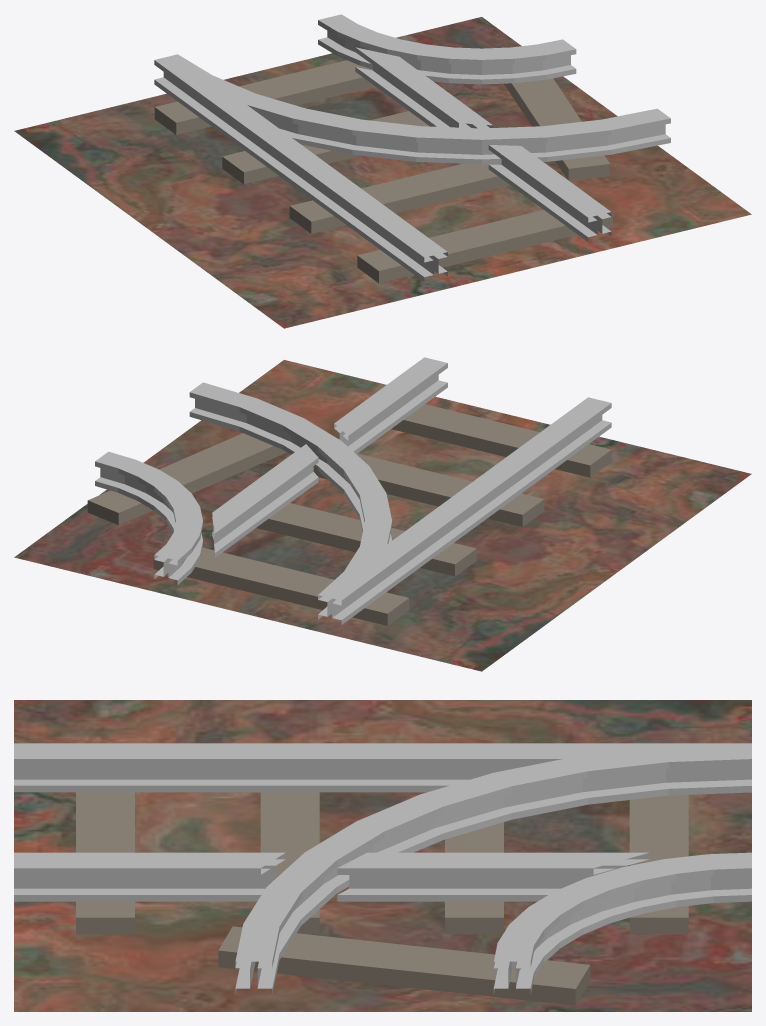
File: cave_minetracks_splitL.glb
3 renders of one model, top to bottom at view 1: azimuth 30°, elevation 25°; view 2: azimuth 150°, elevation 25°; view 3: azimuth 270°, elevation 25°, orthographic. The views are drawn at different scales.
Parts seen in each view (by area): view 1: TrackSplitL; view 2: TrackSplitL; view 3: TrackSplitL.
Boxes of the visible parts, bbox=[...] form: TrackSplitL: bbox=[14, 14, 751, 328]; TrackSplitL: bbox=[14, 357, 751, 671]; TrackSplitL: bbox=[14, 700, 751, 1011].
Size of the model in its own units: 2 by 0.15 by 2.
Materials: 3 (1 with a texture image).
